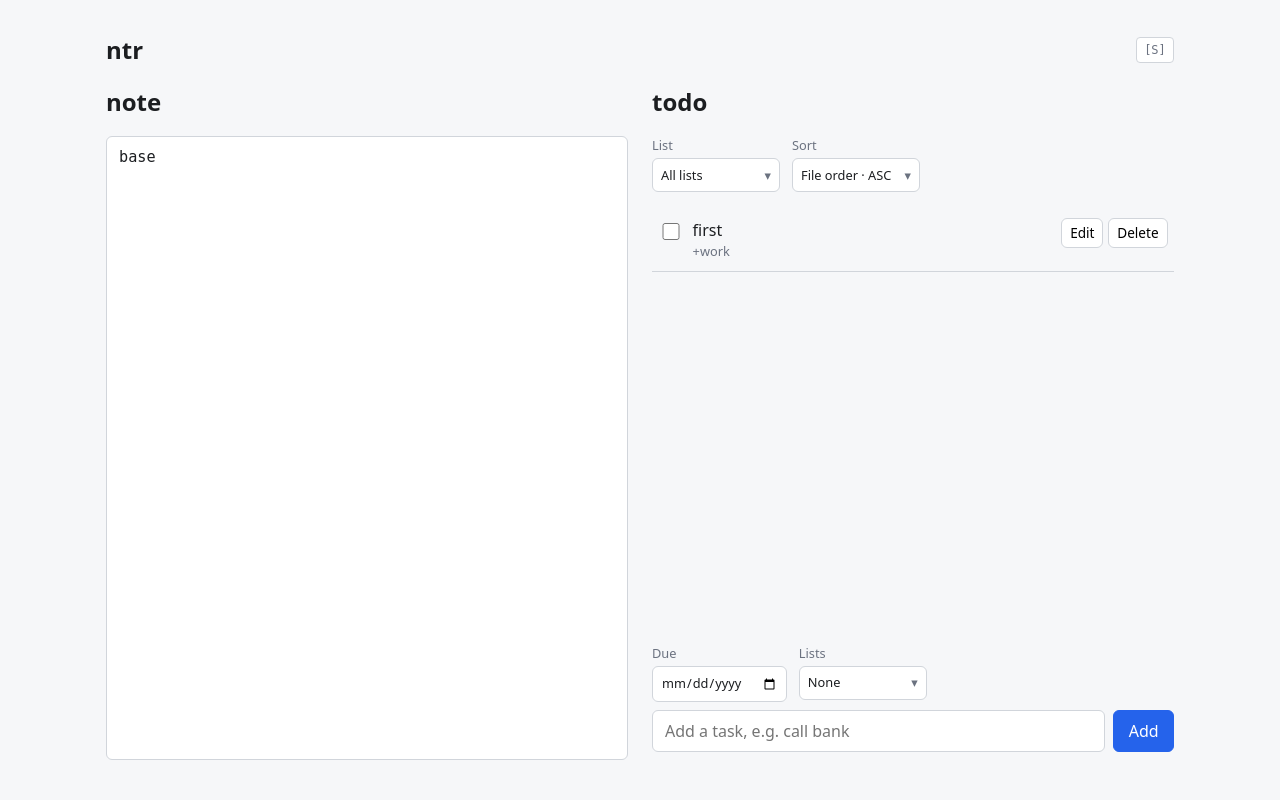
Test: approval across real panes › retains the diff and drafts after a note preparation failure until explicit Retry update
In the field named "New task": [879, 731] box [652, 710, 1105, 752], type "unsaved task +work"
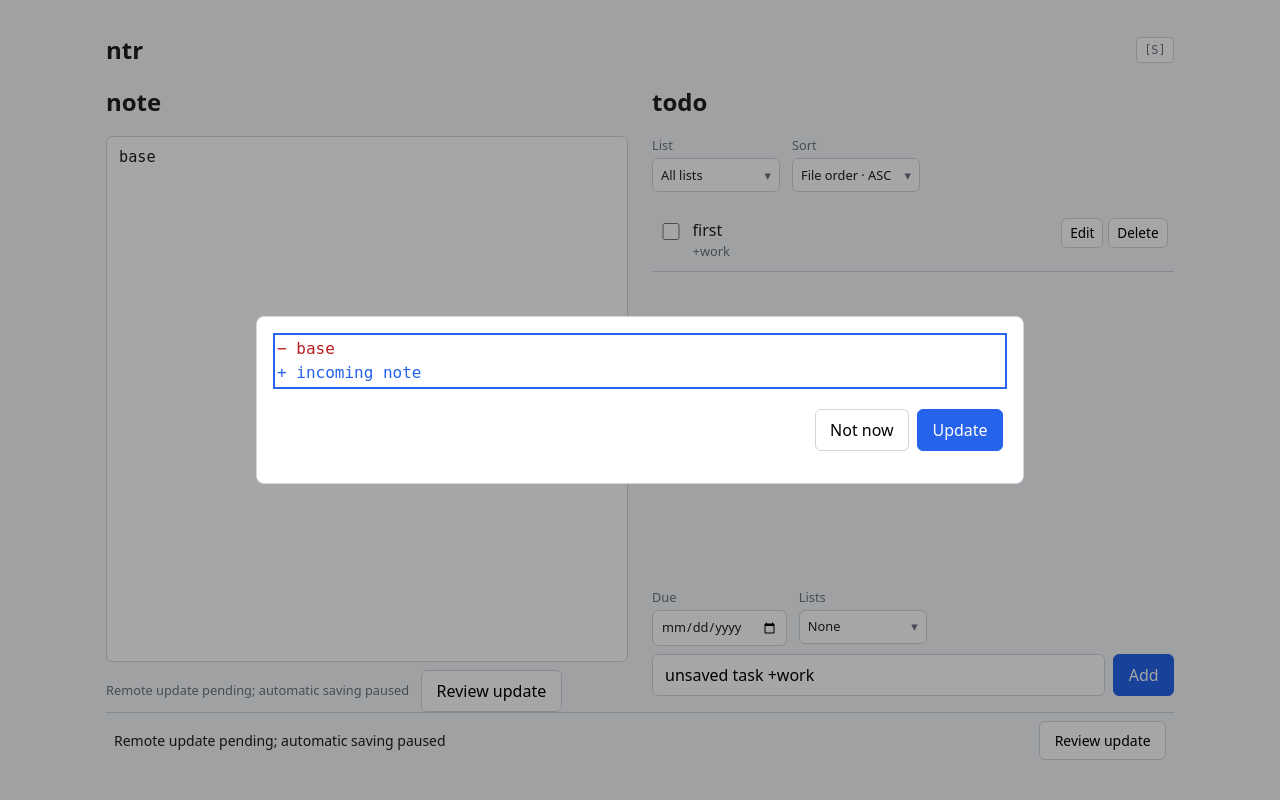
Click the button "Update": [960, 430] box [917, 409, 1003, 451]
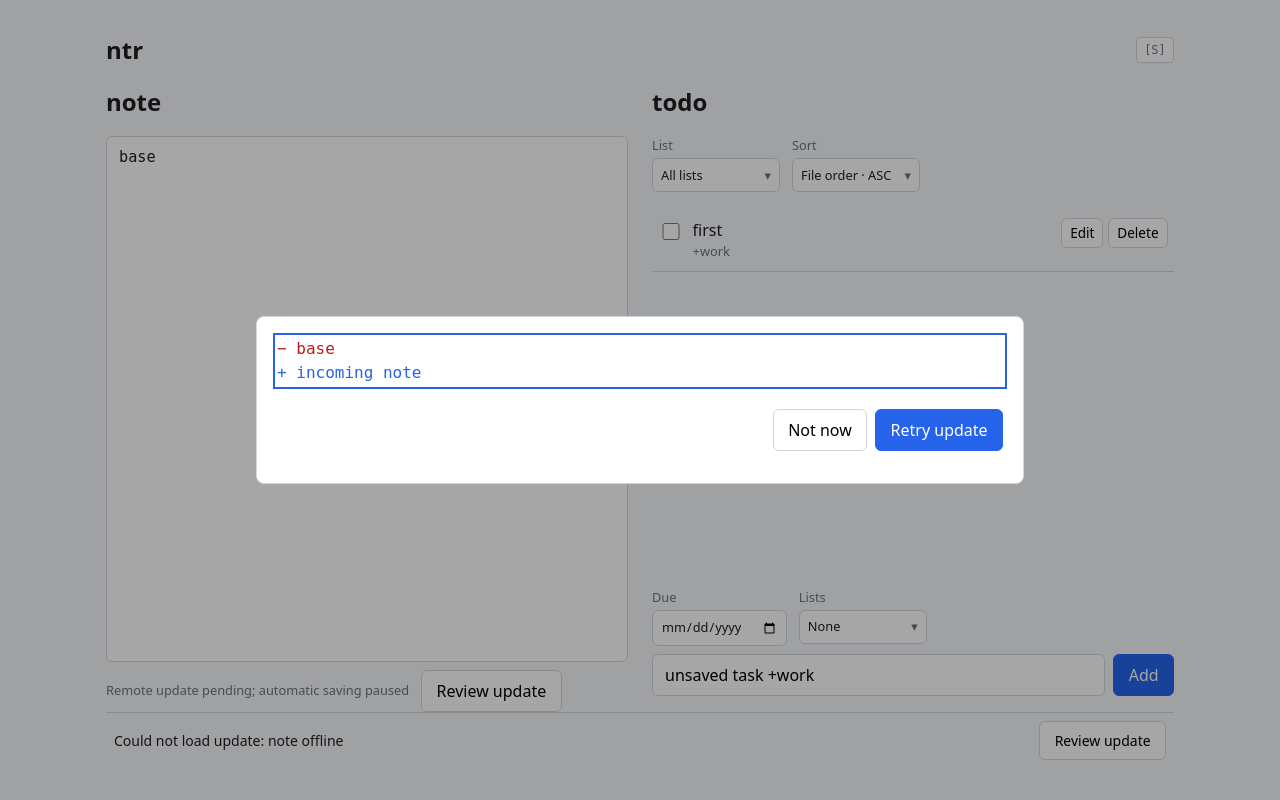
Expected: the field named "Note (Markdown)" reads "base", [106, 136, 628, 662]
Expected: the element named "Change details" shows "incoming note", [296, 363, 422, 382]
Expected: the button "Retry update" is shown
Click the button "Retry update": [939, 430] box [875, 409, 1003, 451]
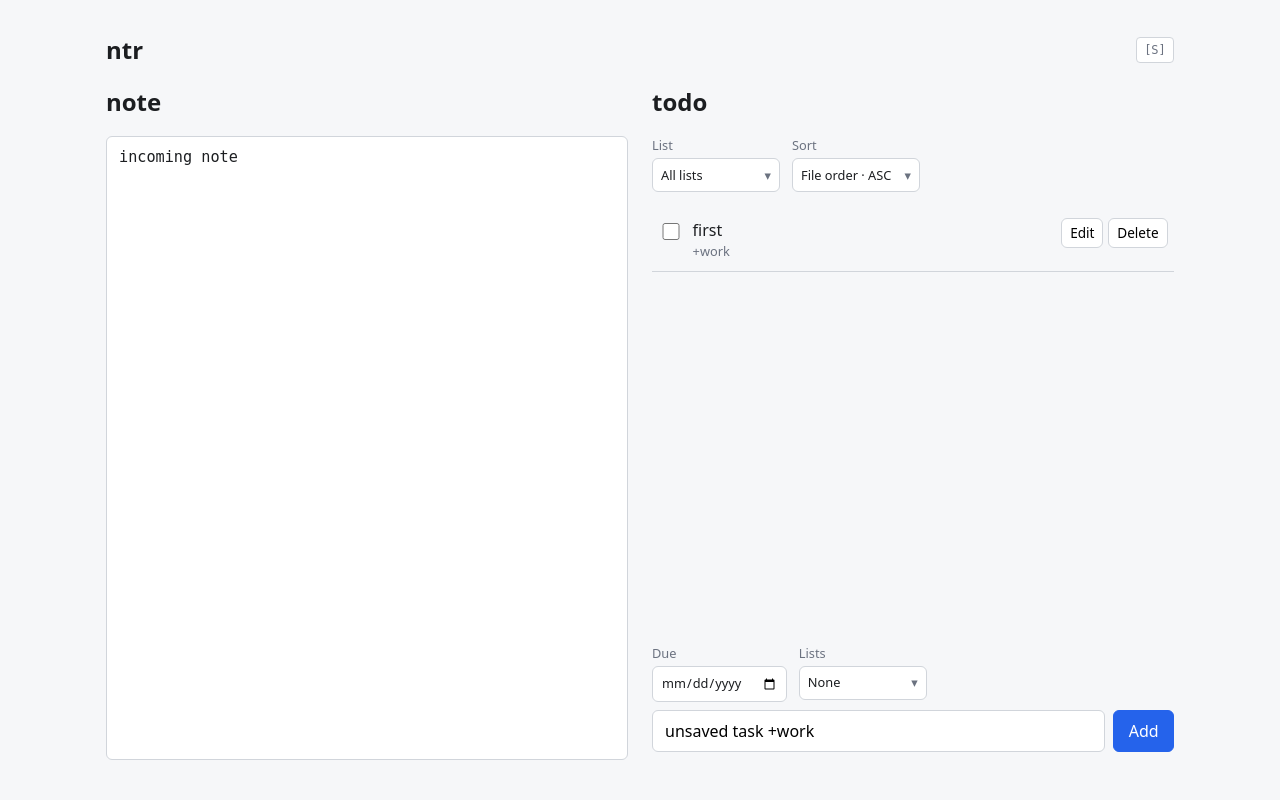
Expected: the field named "Note (Markdown)" reads "incoming note", [106, 136, 628, 760]
